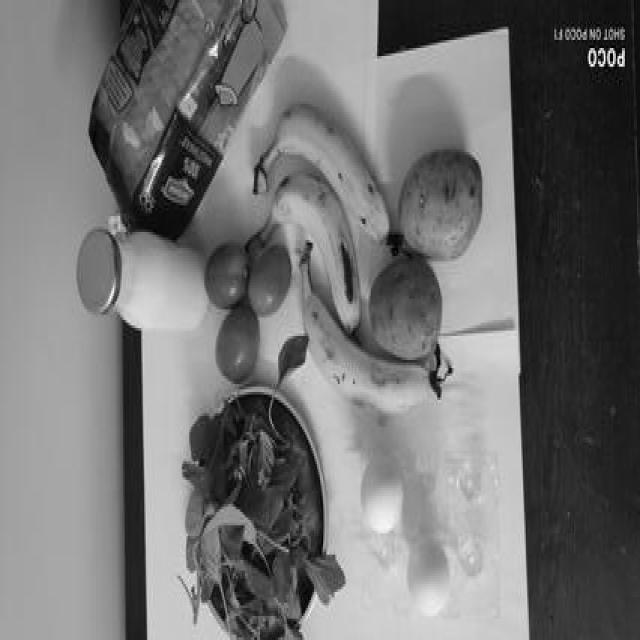Fresh_Spinach: (178, 423, 326, 631)
Fresh_tomato: (192, 251, 298, 368)
